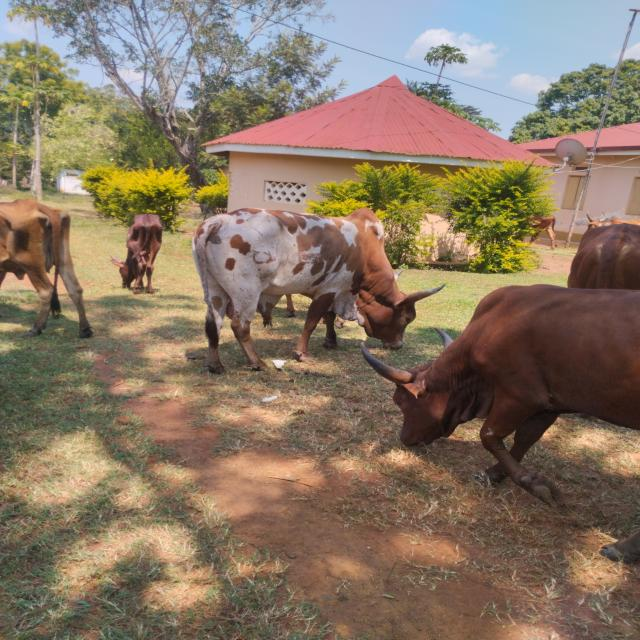Right: (193, 209, 443, 372)
